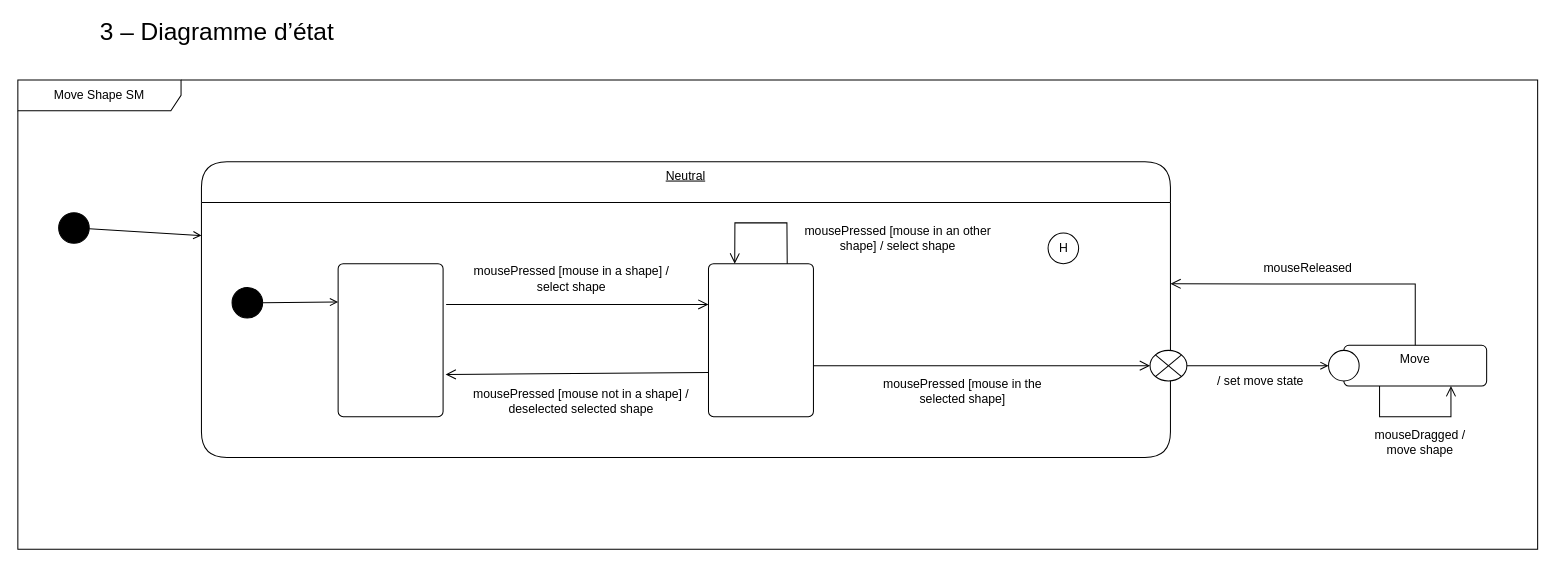
Image size: 1556x567. Some labels were removed from this diagram. Each missing label, with the centre of its shape:
No Shape Selected: pixel 390 340
Shape Selected: pixel 760 340
